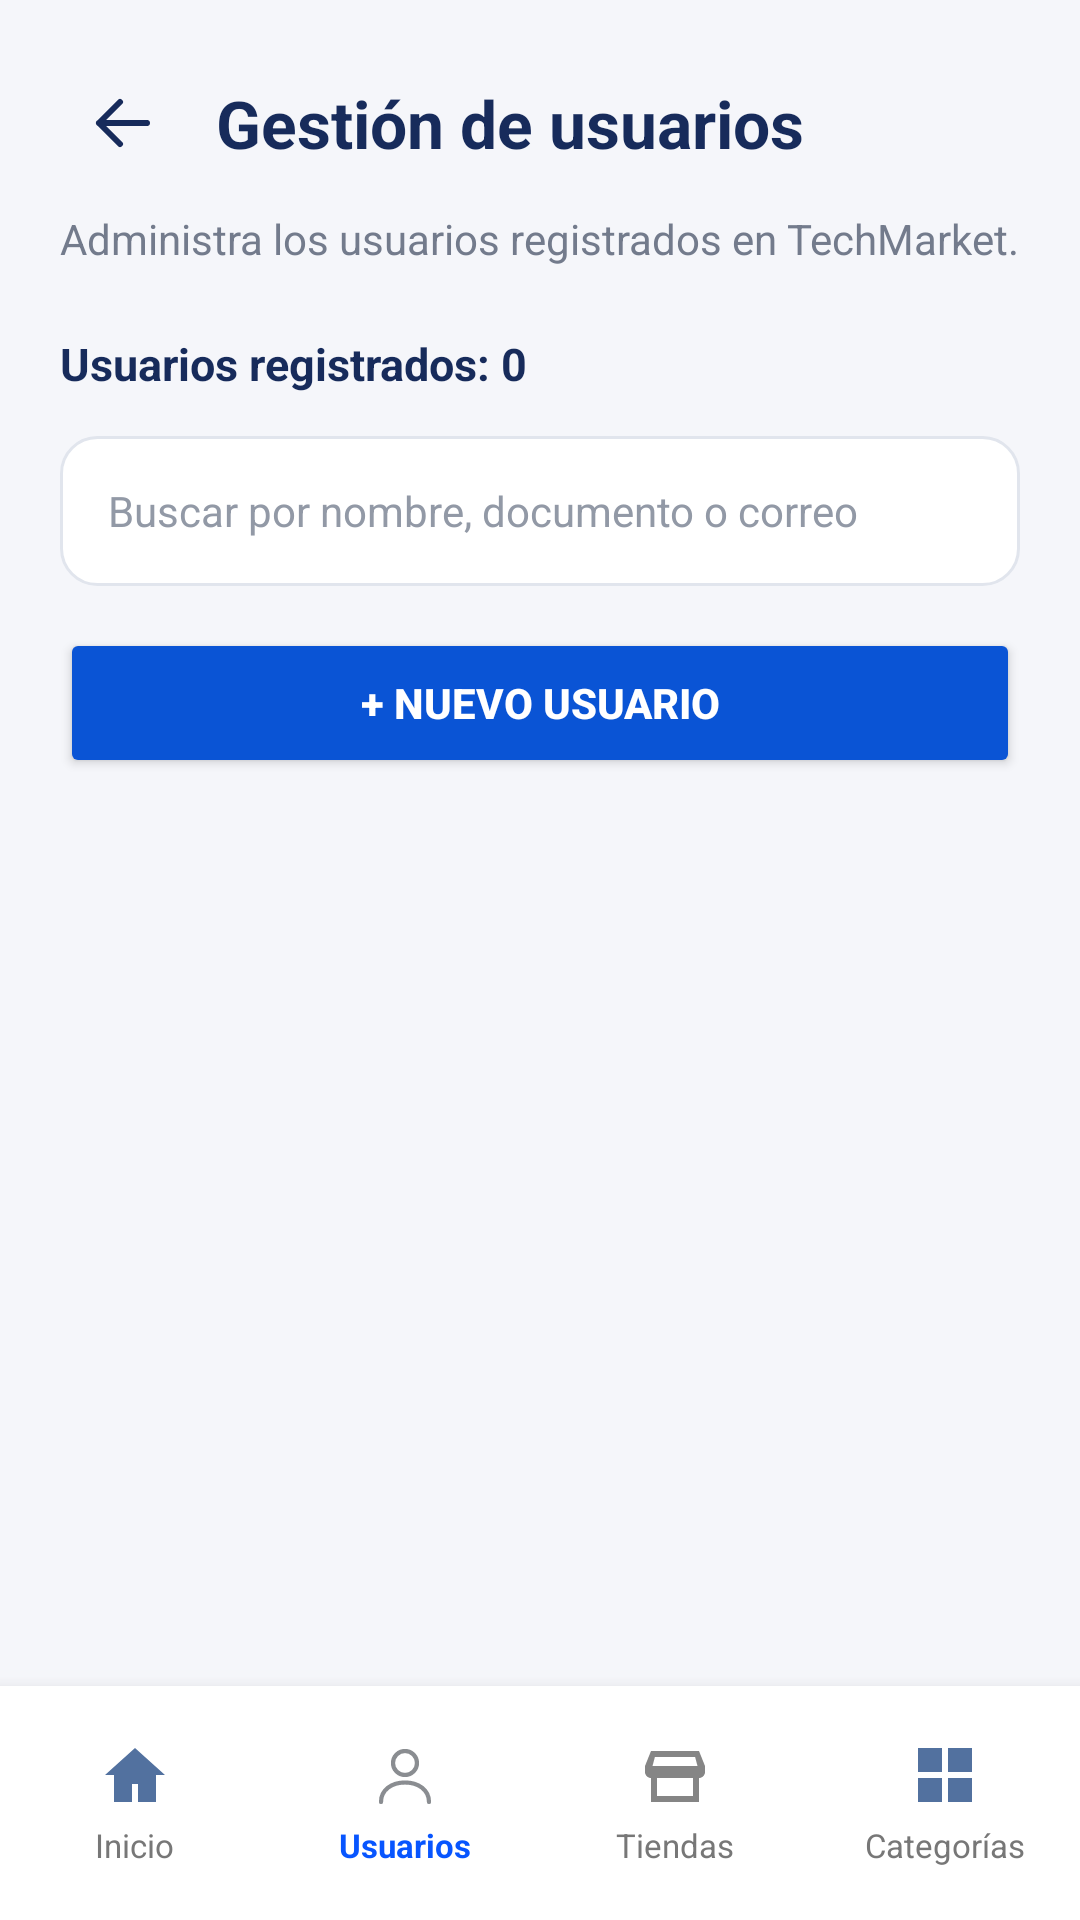

Icons on this 1080px×1920px Android screen, each with the point to tap as (x,y):
Volver: (123,123)
